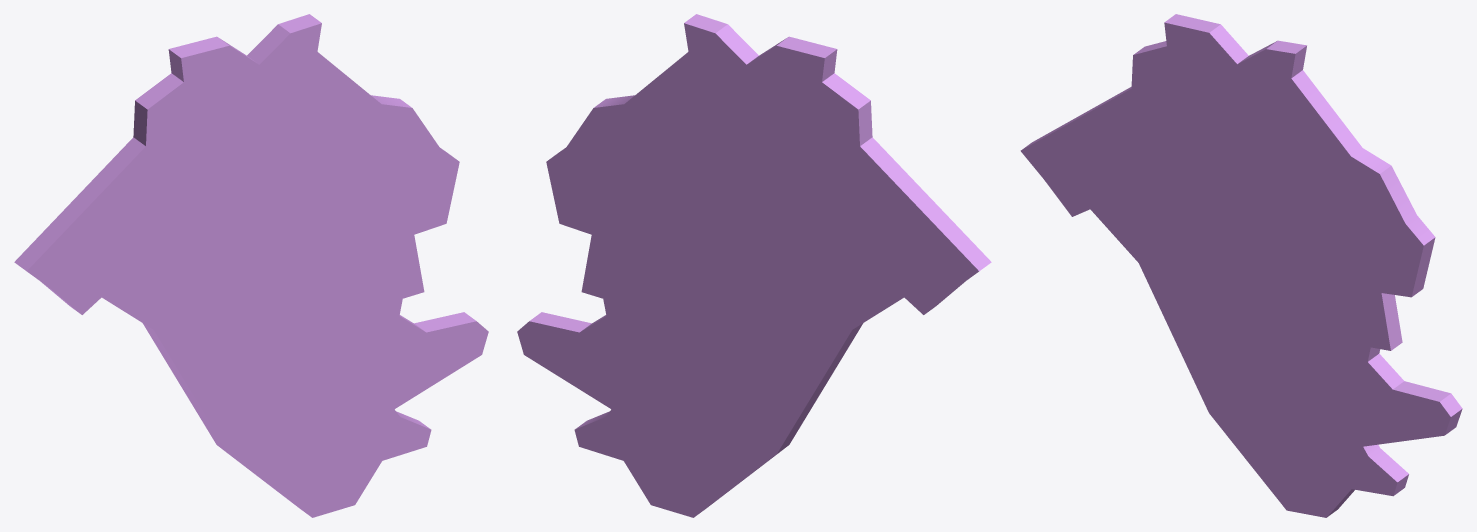
File: hidalgo.fbx
The picture shows the model from 3 angles, left to right: view 1: azimuth 30°, elevation 25°; view 2: azimuth 150°, elevation 25°; view 3: azimuth 330°, elevation 25°; orthographic projection. The views are drawn at different scales.
Parts seen in each view (by area): view 1: hidalgo; view 2: hidalgo; view 3: hidalgo.
Part boxes in pixels (x1=…): hidalgo: x1=14, y1=14, x2=488, y2=517; hidalgo: x1=517, y1=14, x2=991, y2=517; hidalgo: x1=1020, y1=14, x2=1462, y2=517.
Size of the model in its own units: 171 by 174 by 8.
